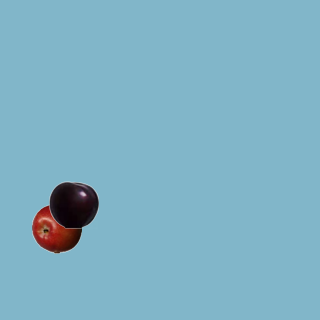Apple Braeburn: (31, 203, 81, 253)
Cherry Wax Black: (48, 179, 98, 229)
